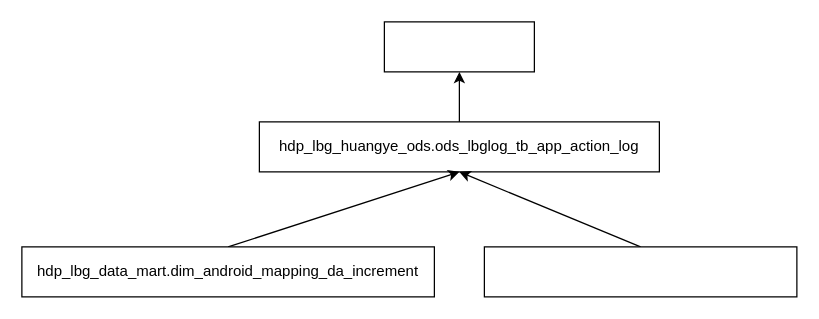
Some shapes in this 819 by 319 pixel diagram are drawn without their labels. The centre of each missing label's shape, as x and y in pixels:
hdp_ubu_wuxian_defaultdb.tb_app_action: (640,271)
其他下游（85）: (458,46)
